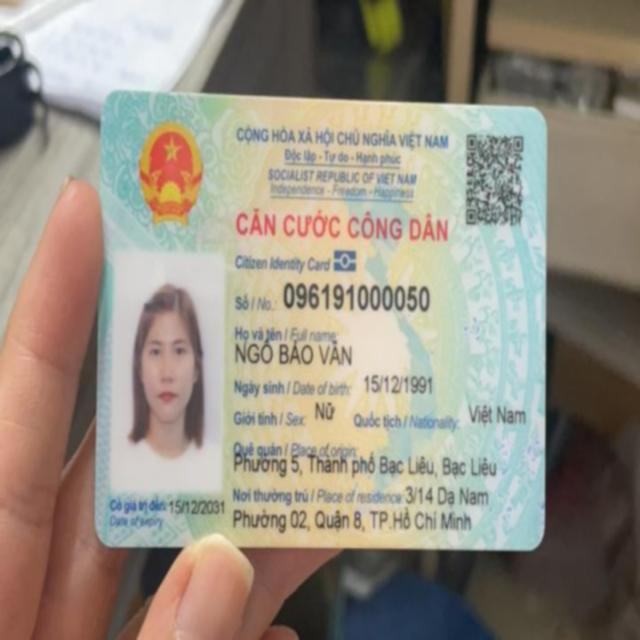bottom_left: (82, 515, 126, 559)
bottom_right: (514, 520, 554, 564)
image_person: (110, 256, 228, 494)
top_left: (87, 80, 135, 128)
top_right: (516, 94, 558, 136)
